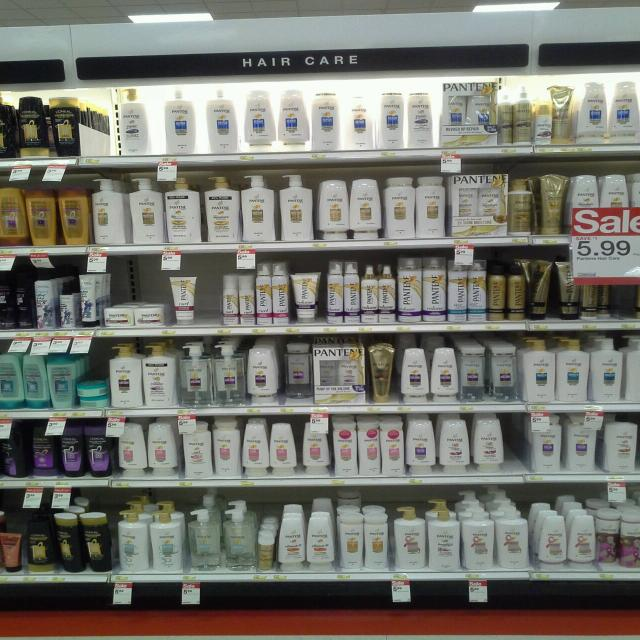void: (606, 263, 636, 316), (508, 419, 528, 475)
